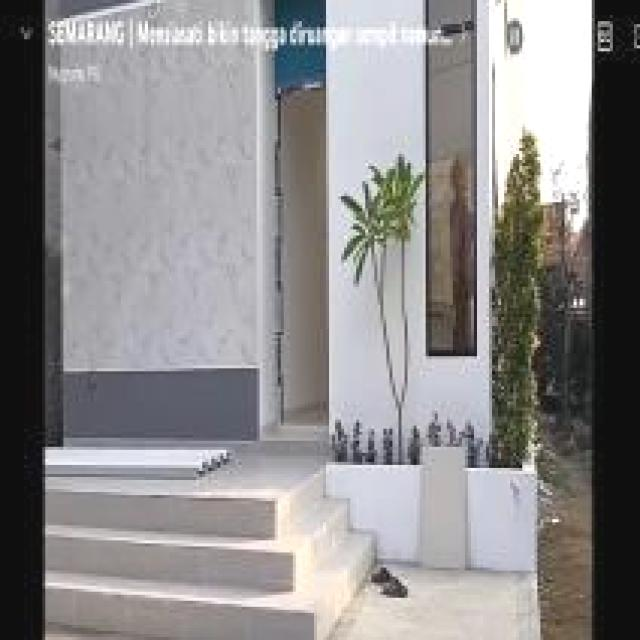upstair: (46, 478, 330, 640)
